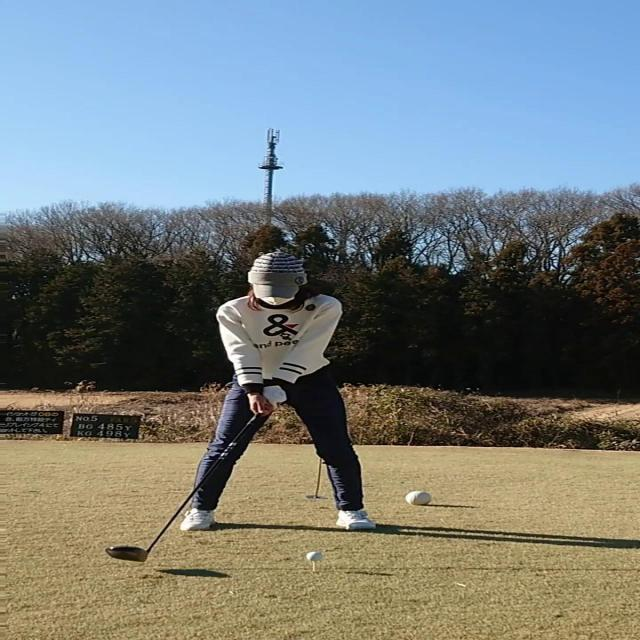ClubHead: (104, 545, 150, 563)
GolfBall: (304, 552, 326, 562)
